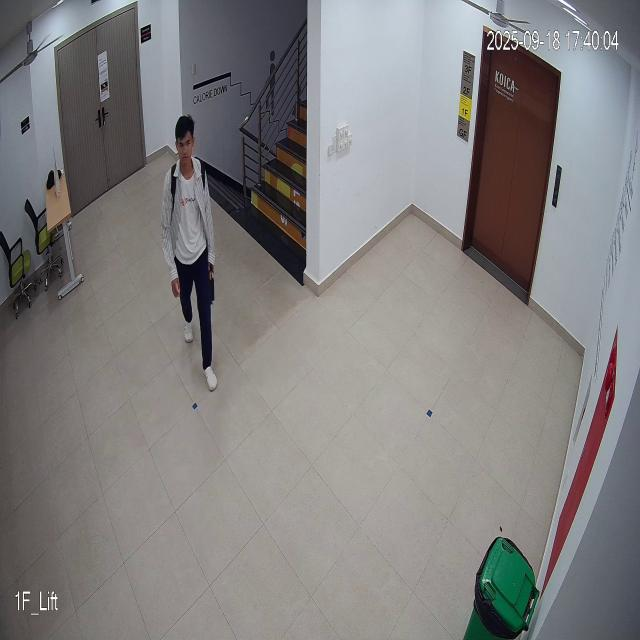face: (174, 112, 197, 169)
